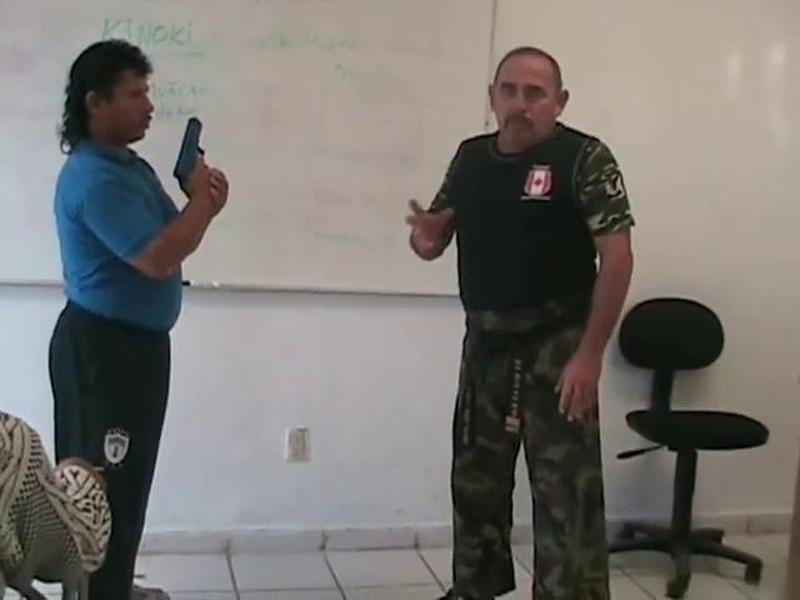Pistola: (176, 109, 212, 182)
